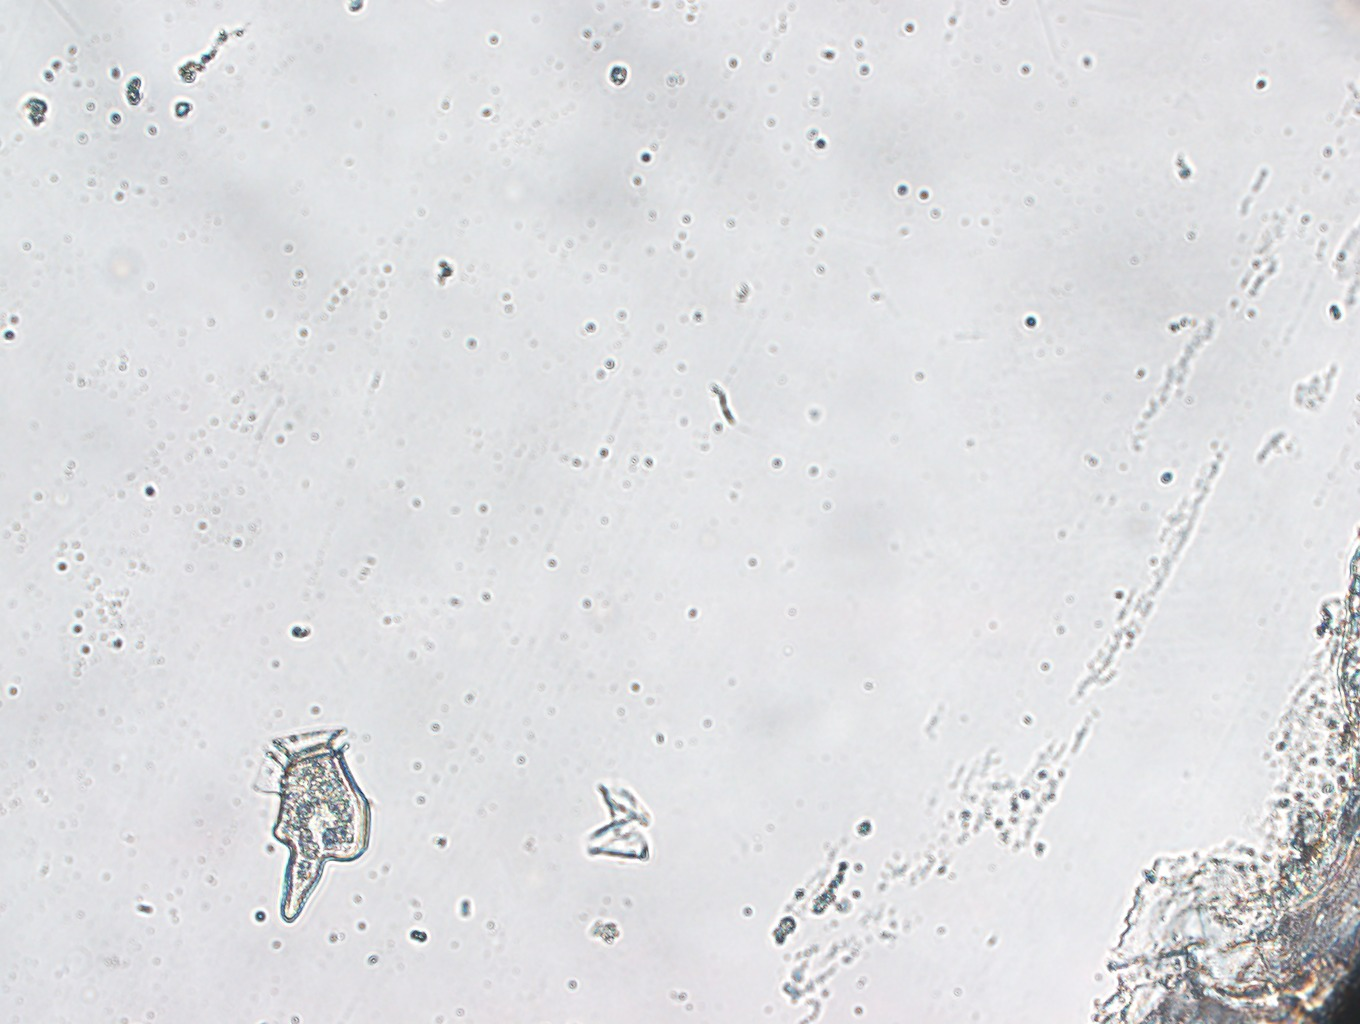dinophysis caudata: (253, 727, 370, 925)
